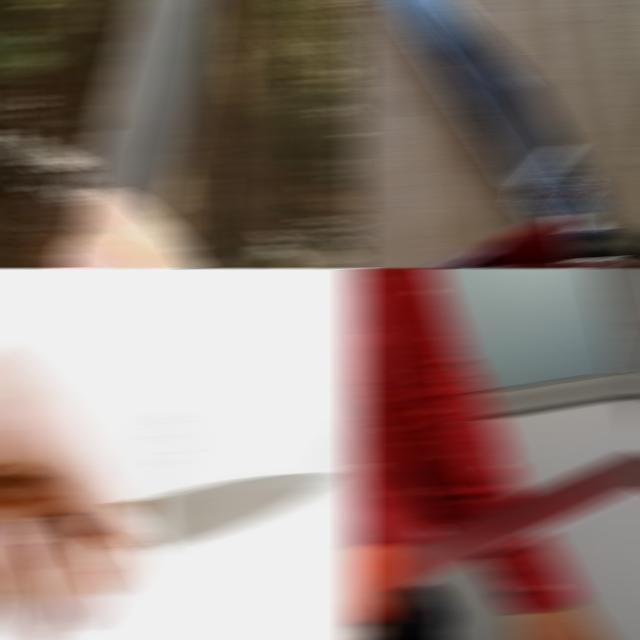Knife: (351, 451, 640, 626), (84, 0, 220, 216), (118, 473, 338, 551)
Knife_Handle: (0, 270, 361, 640), (30, 0, 283, 268)
